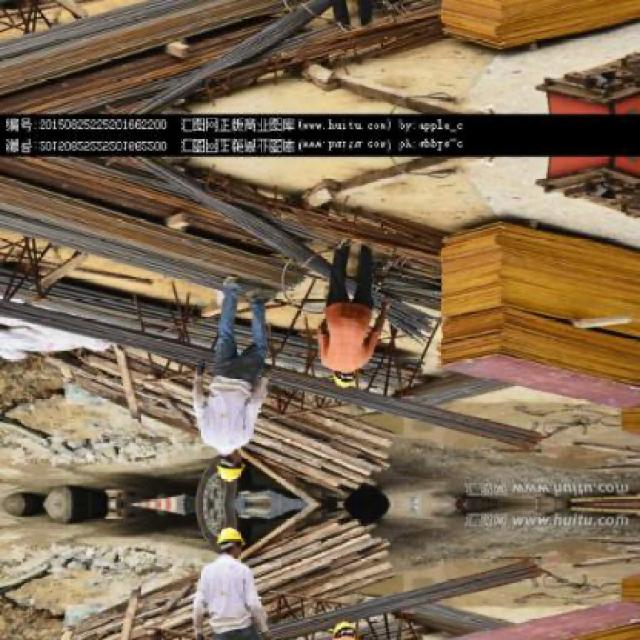con casco: (316, 352, 379, 405), (207, 447, 250, 497)
